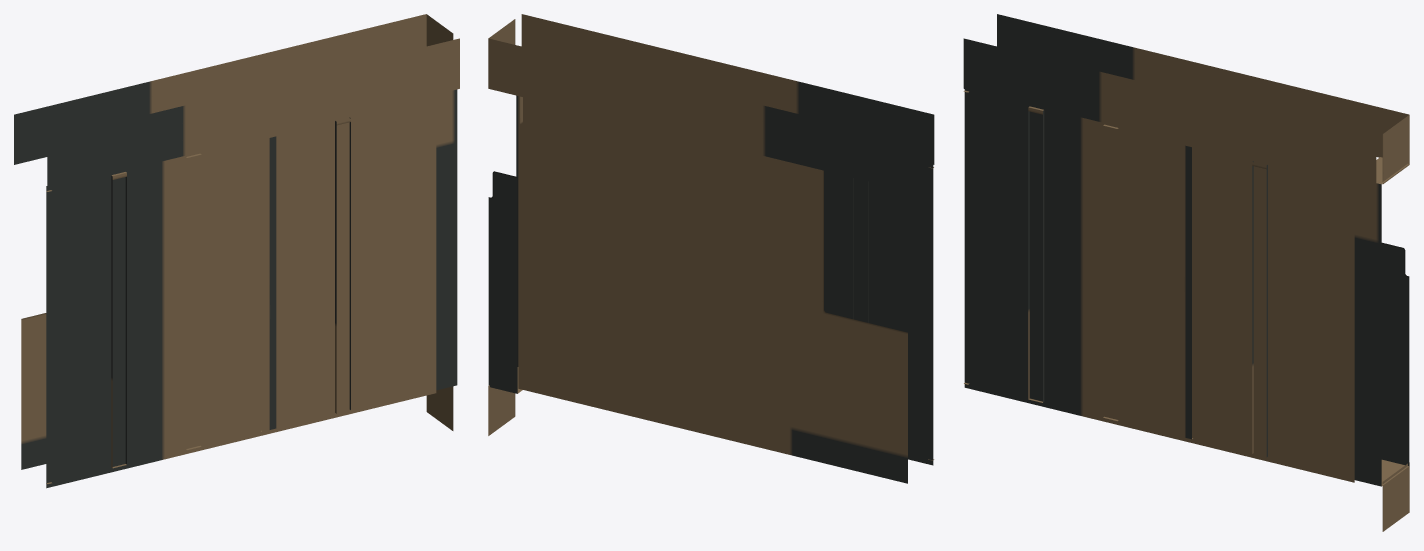
File: section-5.obj
3 views of the same model, side by side, from view 1: azimuth 30°, elevation 25°; view 2: azimuth 150°, elevation 25°; view 3: azimuth 330°, elevation 25° (orthographic).
Bounding box in the file's own units: 0.86 × 0.79 × 0.121.
